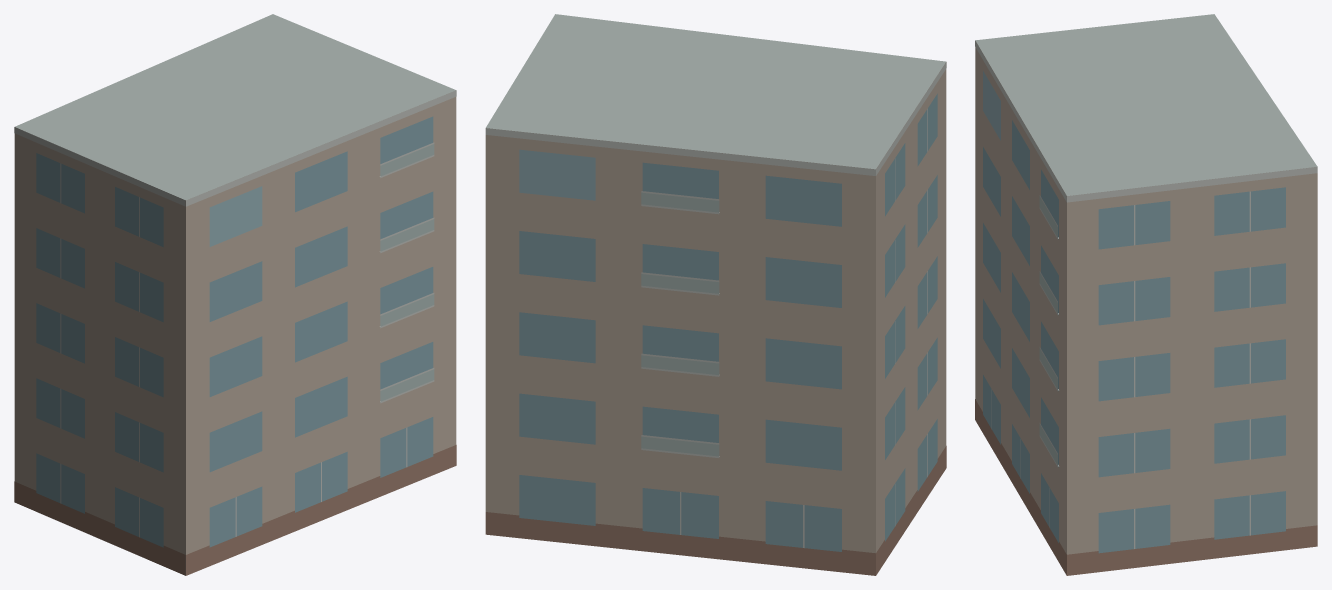
File: survey-upis-32686498.glb
The picture shows the model from 3 angles, left to right: view 1: azimuth 30°, elevation 25°; view 2: azimuth 150°, elevation 25°; view 3: azimuth 270°, elevation 25°; orthographic projection. The views are drawn at different scales.
Visible parts, largest first — view 1: survey-upis-32686498.tmp; view 2: survey-upis-32686498.tmp; view 3: survey-upis-32686498.tmp.
Part boxes in pixels (<box>): survey-upis-32686498.tmp: <box>14,14,456,575</box>; survey-upis-32686498.tmp: <box>485,14,946,575</box>; survey-upis-32686498.tmp: <box>975,14,1317,575</box>.
Bounding box in the file's own units: 14.9 × 14.48 × 11.84.
